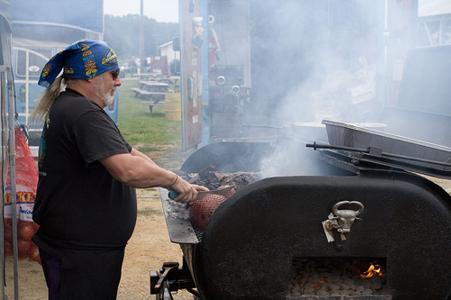person: (32, 41, 206, 300)
